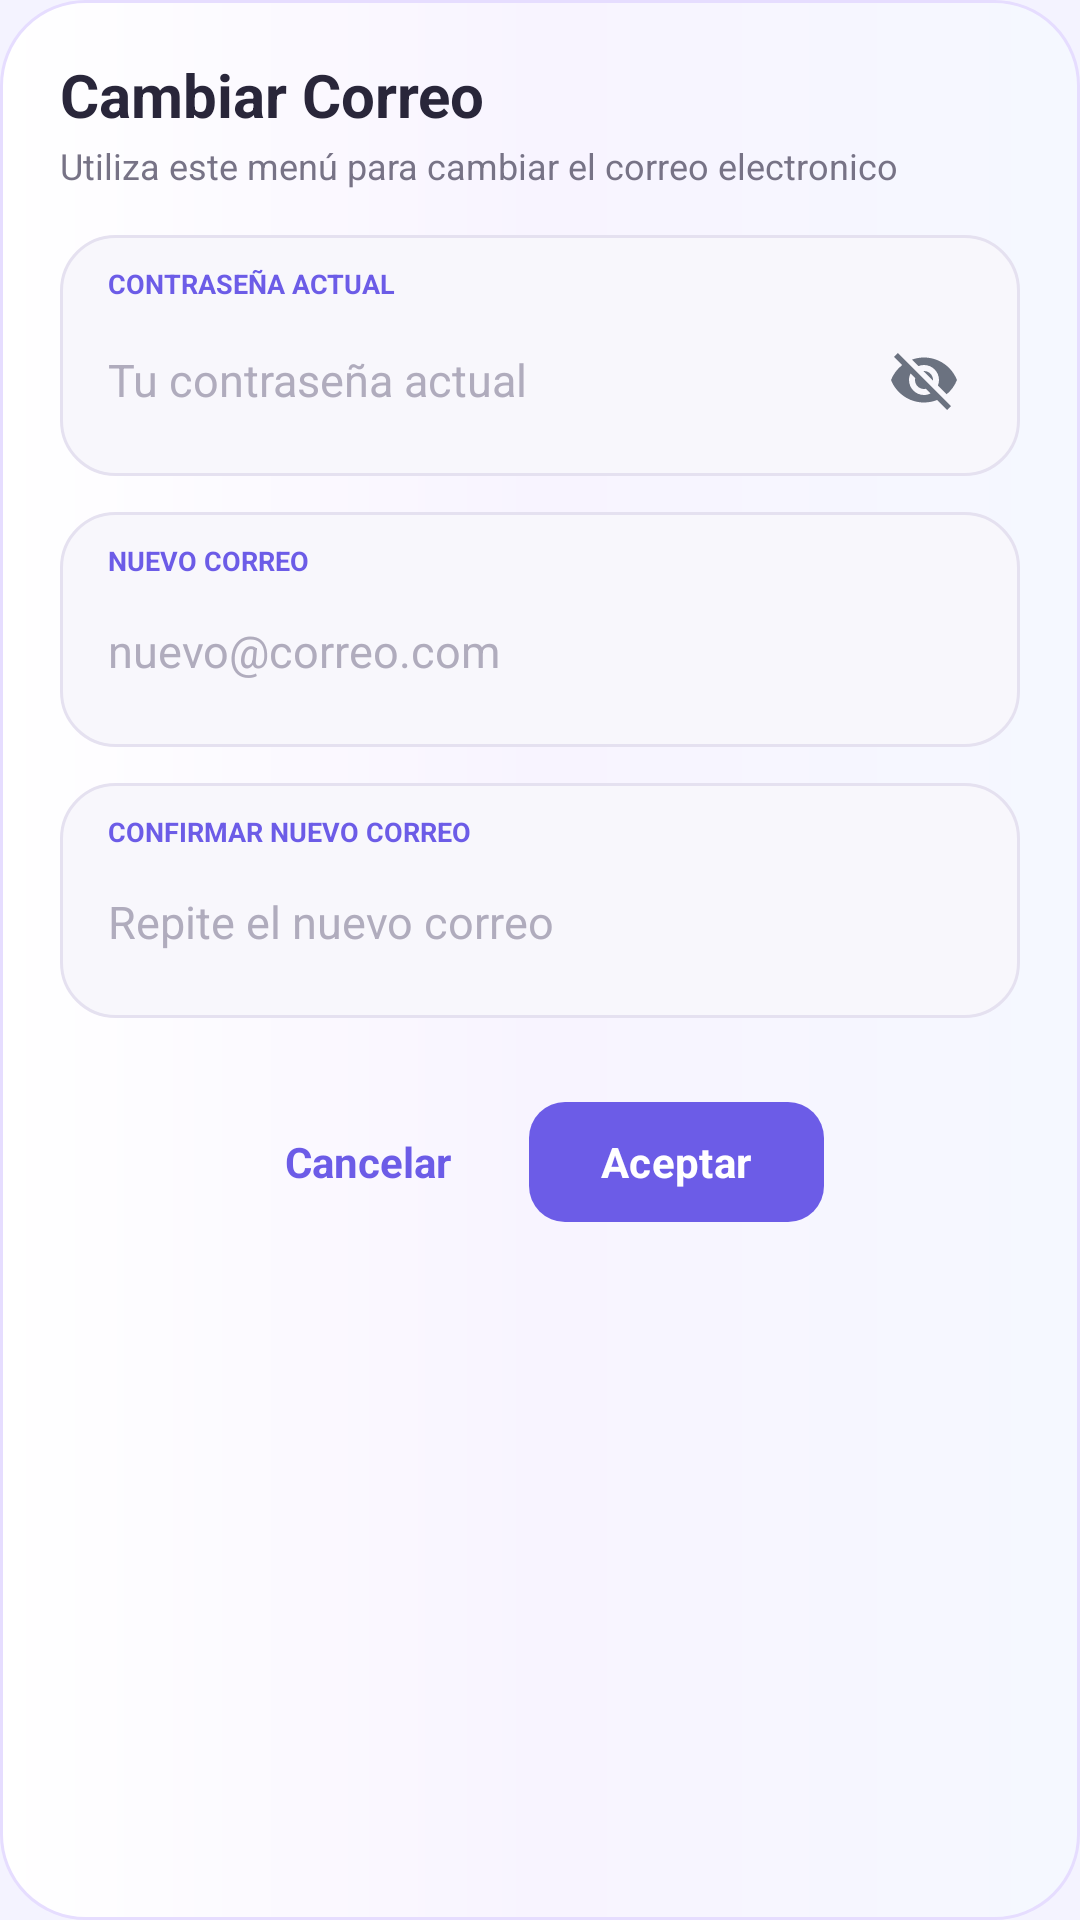

Icon click points for this 1080px x 1920px phone screenshot, format (x=x, y=y):
ojo cerrado: (x=924, y=381)
